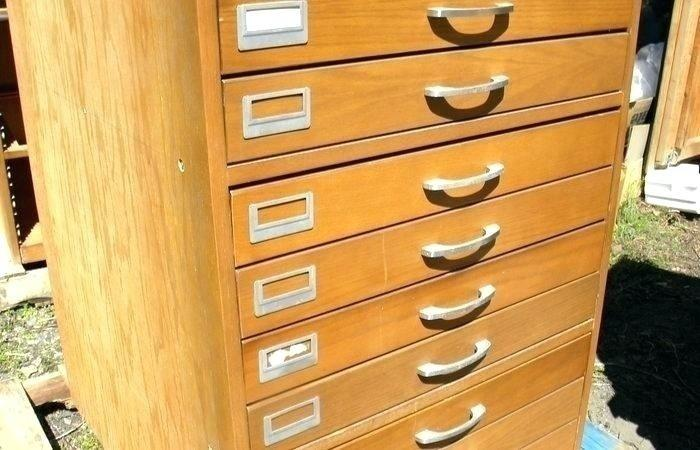cabinet_door: (223, 60, 624, 134), (232, 145, 613, 209), (234, 211, 605, 276), (238, 278, 593, 344), (245, 341, 591, 404), (222, 0, 633, 51), (337, 408, 587, 450), (666, 7, 700, 165)
handle: (417, 161, 507, 209), (420, 221, 503, 273), (416, 283, 499, 331), (416, 337, 493, 385), (412, 406, 490, 449), (420, 0, 518, 27), (419, 74, 510, 103)
